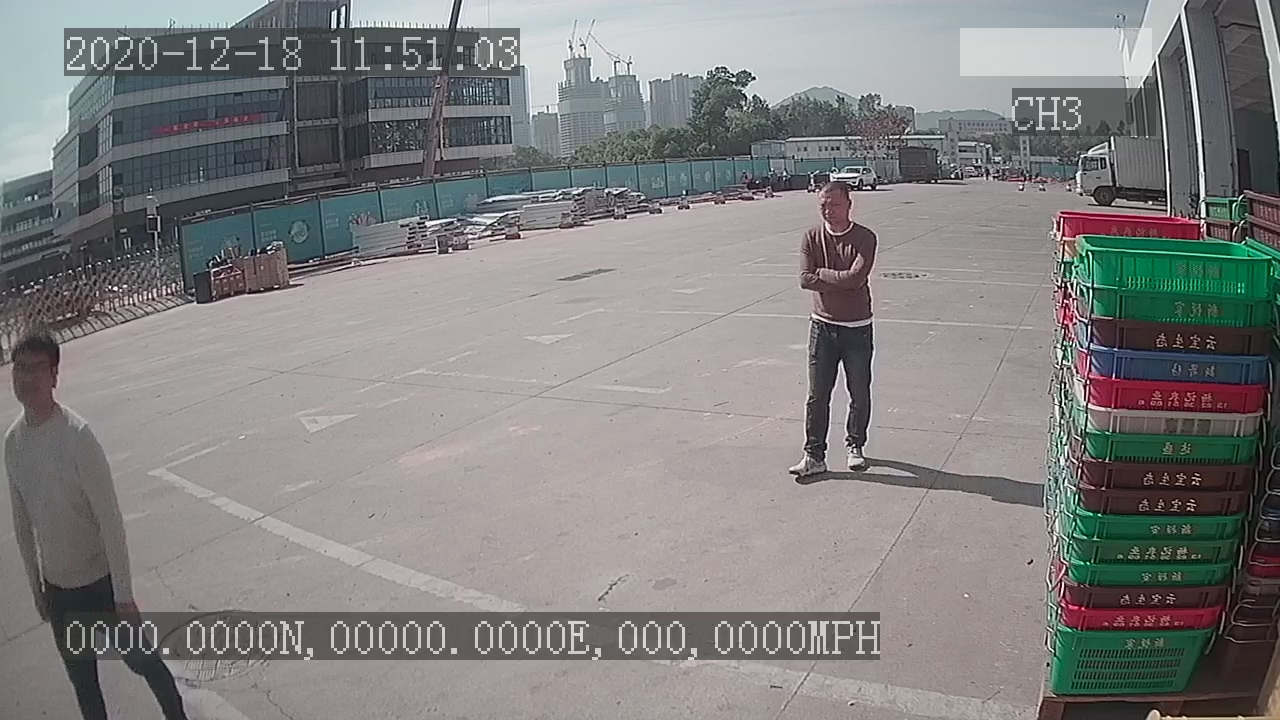person: (777, 177, 883, 483)
